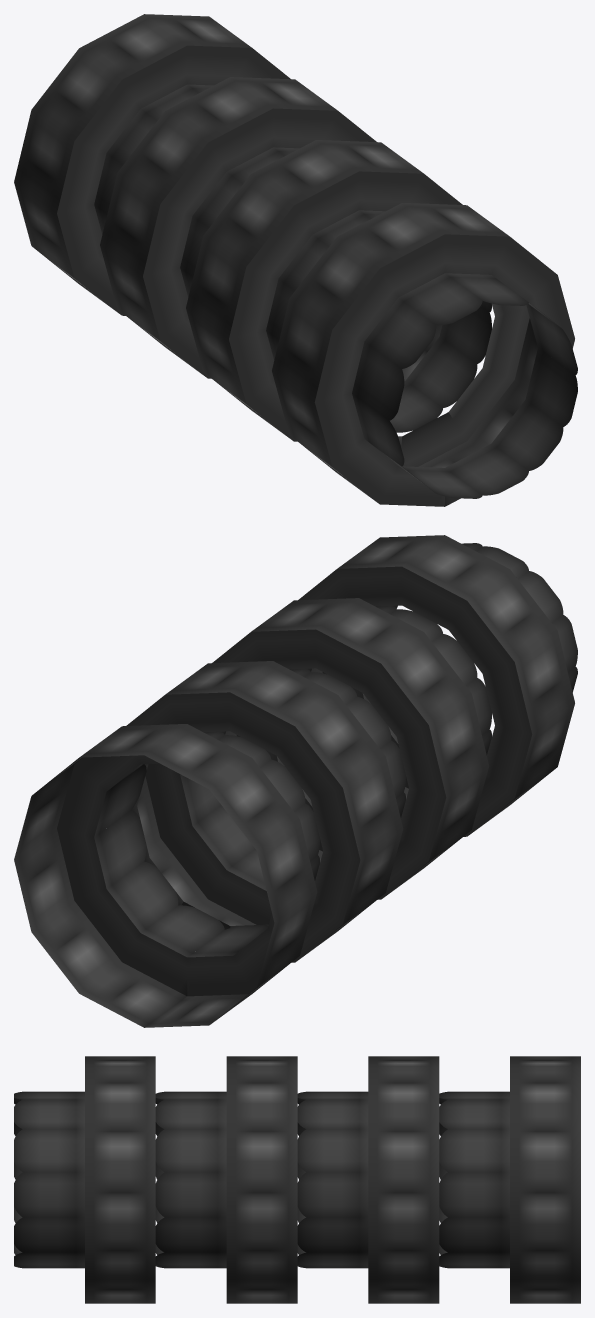
Rendered from blades_left.obj.
The picture shows the model from 3 angles, top to bottom: view 1: azimuth 30°, elevation 25°; view 2: azimuth 150°, elevation 25°; view 3: azimuth 270°, elevation 25°; orthographic projection. The views are drawn at different scales.
Size of the model in its own units: 0.875 by 0.875 by 2.
